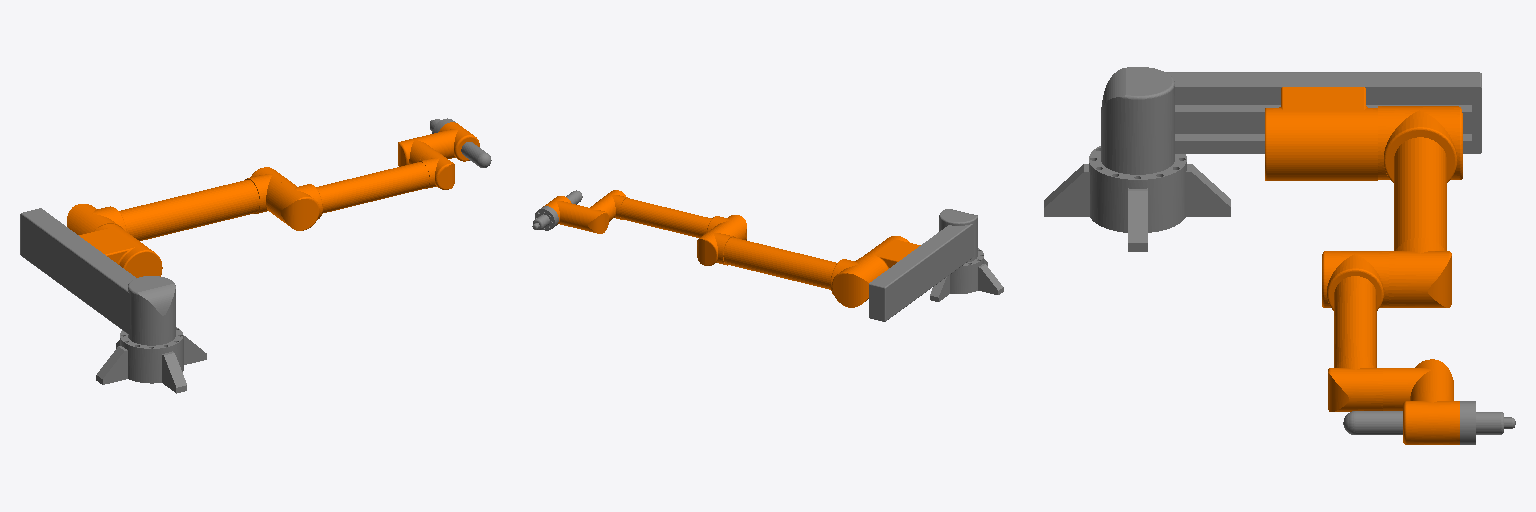
robot.urdf — myrobot:
<?xml version="1.0" ?>
<!-- =================================================================================== -->
<!-- |    This document was autogenerated by xacro from kr20.xacro                     | -->
<!-- |    EDITING THIS FILE BY HAND IS NOT RECOMMENDED                                 | -->
<!-- =================================================================================== -->
<robot name="myrobot">
  <!-- END - Include -->
  <!-- World frame (for Gazebo) -->
  <link name="world"/>
  <!-- Arm fixed to world frame  -->
  <joint name="world__base" type="fixed">
    <parent link="world"/>
    <child link="base_link"/>
    <origin rpy="0 0 0" xyz="0 0 0"/>
  </joint>
  <link name="base_link">
    <inertial>
      <mass value="36.629"/>
      <origin rpy="0 0 0" xyz="0 0 0"/>
      <inertia ixx="184.1" ixy="0" ixz="0" iyy="184.1" iyz="0" izz="283.7"/>
    </inertial>
    <collision>
      <origin rpy="0 0 0" xyz="0 0 0"/>
      <geometry>
        <mesh filename="package://universal_robot/meshes/base_link.stl" scale="0.001 0.001 0.001"/>
      </geometry>
    </collision>
    <visual>
      <origin rpy="0 0 0" xyz="0 0 0"/>
      <geometry>
        <mesh filename="package://universal_robot/meshes/base_link.stl" scale="0.001 0.001 0.001"/>
      </geometry>
      <material name="Grey"/>
    </visual>
  </link>
  <material name="Orange">
    <color rgba="1.0 0.5 0.0 1.0"/>
  </material>
  <material name="White">
    <color rgba="0.96 0.96 0.96 1.0"/>
  </material>
  <material name="Grey">
    <color rgba="0.56 0.56 0.56 1.0"/>
  </material>
  <gazebo reference="base">
    <material>Gazebo/Grey</material>
  </gazebo>
  <gazebo reference="link01">
    <material>Gazebo/Grey</material>
  </gazebo>
  <gazebo reference="link02">
    <material>Gazebo/Orange</material>
  </gazebo>
  <gazebo reference="link03">
    <material>Gazebo/Orange</material>
  </gazebo>
  <gazebo reference="link04">
    <material>Gazebo/Orange</material>
  </gazebo>
  <gazebo reference="link05">
    <material>Gazebo/Orange</material>
  </gazebo>
  <gazebo reference="link06">
    <material>Gazebo/Orange</material>
  </gazebo>
  <gazebo reference="link07">
    <material>Gazebo/Orange</material>
  </gazebo>
  <gazebo reference="linkef">
    <material>Gazebo/Grey</material>
  </gazebo>
  <!-- BEGIN - Robot description -->
  <joint name="q1" type="revolute">
    <axis xyz="0 0 1"/>
    <limit effort="1000" lower="-3.14" upper="3.14" velocity="0.5"/>
    <origin rpy="0 0 0" xyz="0 0 0.12"/>
    <parent link="base_link"/>
    <child link="link01"/>
  </joint>
  <transmission name="trans_q1">
    <type>transmission_interface/SimpleTransmission</type>
    <joint name="q1">
      <hardwareInterface>hardware_interface/PositionJointInterface</hardwareInterface>
    </joint>
    <actuator name="motor_q1">
      <hardwareInterface>hardware_interface/PositionJointInterface</hardwareInterface>
      <mechanicalReduction>100</mechanicalReduction>
    </actuator>
  </transmission>
  <link name="link01">
    <inertial>
      <mass value="24.74"/>
      <origin rpy="0 0 0" xyz="0 0 0"/>
      <inertia ixx="1430" ixy="84.25" ixz="0.2969" iyy="82.08" iyz="-1.64" izz="1405"/>
    </inertial>
    <collision>
      <origin rpy="0 0 0" xyz="0 0 0"/>
      <geometry>
        <mesh filename="package://universal_robot/meshes/Link1.stl" scale="0.001 0.001 0.001"/>
      </geometry>
    </collision>
    <visual>
      <origin rpy="0 0 0" xyz="0 0 0"/>
      <geometry>
        <mesh filename="package://universal_robot/meshes/Link1.stl" scale="0.001 0.001 0.001"/>
      </geometry>
      <material name="Grey"/>
    </visual>
  </link>
  <joint name="q2" type="prismatic">
    <axis xyz="0 1 0"/>
    <limit effort="1000" lower="-0.192" upper="0.216" velocity="0.5"/>
    <origin rpy="0 0 0" xyz="0 0.37775 0.089"/>
    <parent link="link01"/>
    <child link="link02"/>
  </joint>
  <transmission name="trans_q2">
    <type>transmission_interface/SimpleTransmission</type>
    <joint name="q2">
      <hardwareInterface>hardware_interface/PositionJointInterface</hardwareInterface>
    </joint>
    <actuator name="motor_q2">
      <hardwareInterface>hardware_interface/PositionJointInterface</hardwareInterface>
      <mechanicalReduction>100</mechanicalReduction>
    </actuator>
  </transmission>
  <link name="link02">
    <inertial>
      <mass value="10.88"/>
      <origin rpy="0 0 0" xyz="0 0 0"/>
      <inertia ixx="67.73" ixy="1.2" ixz="0.184" iyy="59.85" iyz="-0.005" izz="83.55"/>
    </inertial>
    <collision>
      <origin rpy="0 0 0" xyz="0 0 0"/>
      <geometry>
        <mesh filename="package://universal_robot/meshes/Link2.stl" scale="0.001 0.001 0.001"/>
      </geometry>
    </collision>
    <visual>
      <origin rpy="0 0 0" xyz="0 0 0"/>
      <geometry>
        <mesh filename="package://universal_robot/meshes/Link2.stl" scale="0.001 0.001 0.001"/>
      </geometry>
      <material name="Orange"/>
    </visual>
  </link>
  <joint name="q3" type="revolute">
    <axis xyz="0 1 0"/>
    <limit effort="1000" lower="-2.15" upper="2.15" velocity="0.5"/>
    <origin rpy="0 0 0" xyz="0.115 0.11 0"/>
    <parent link="link02"/>
    <child link="link03"/>
  </joint>
  <transmission name="trans_q3">
    <type>transmission_interface/SimpleTransmission</type>
    <joint name="q3">
      <hardwareInterface>hardware_interface/PositionJointInterface</hardwareInterface>
    </joint>
    <actuator name="motor_q3">
      <hardwareInterface>hardware_interface/PositionJointInterface</hardwareInterface>
      <mechanicalReduction>100</mechanicalReduction>
    </actuator>
  </transmission>
  <link name="link03">
    <inertial>
      <mass value="19.26"/>
      <origin rpy="0 0 0" xyz="0 0 0"/>
      <inertia ixx="56.06" ixy="-4.0" ixz="0" iyy="1396.0" iyz="0" izz="1404.0"/>
    </inertial>
    <collision>
      <origin rpy="0 0 0" xyz="0 0 0"/>
      <geometry>
        <mesh filename="package://universal_robot/meshes/Link3.stl" scale="0.001 0.001 0.001"/>
      </geometry>
    </collision>
    <visual>
      <origin rpy="0 0 0" xyz="0 0 0"/>
      <geometry>
        <mesh filename="package://universal_robot/meshes/Link3.stl" scale="0.001 0.001 0.001"/>
      </geometry>
      <material name="Orange"/>
    </visual>
  </link>
  <joint name="q4" type="revolute">
    <axis xyz="0 1 0"/>
    <limit effort="1000" lower="-3.14" upper="3.14" velocity="0.5"/>
    <origin rpy="0 0 0" xyz="0.65625 0.0225 0"/>
    <parent link="link03"/>
    <child link="link04"/>
  </joint>
  <transmission name="trans_q4">
    <type>transmission_interface/SimpleTransmission</type>
    <joint name="q4">
      <hardwareInterface>hardware_interface/PositionJointInterface</hardwareInterface>
    </joint>
    <actuator name="motor_q4">
      <hardwareInterface>hardware_interface/PositionJointInterface</hardwareInterface>
      <mechanicalReduction>100</mechanicalReduction>
    </actuator>
  </transmission>
  <link name="link04">
    <inertial>
      <mass value="9.9"/>
      <origin rpy="0 0 0" xyz="0 0 0"/>
      <inertia ixx="17.71" ixy="0.209" ixz="-0.001" iyy="464.8" iyz="0" izz="467.7"/>
    </inertial>
    <collision>
      <origin rpy="0 0 0" xyz="0 0 0"/>
      <geometry>
        <mesh filename="package://universal_robot/meshes/Link4.stl" scale="0.001 0.001 0.001"/>
      </geometry>
    </collision>
    <visual>
      <origin rpy="0 0 0" xyz="0 0 0"/>
      <geometry>
        <mesh filename="package://universal_robot/meshes/Link4.stl" scale="0.001 0.001 0.001"/>
      </geometry>
      <material name="Orange"/>
    </visual>
  </link>
  <joint name="q5" type="revolute">
    <axis xyz="0 1 0"/>
    <limit effort="1000" lower="-3.14" upper="3.14" velocity="0.5"/>
    <origin rpy="0 0 0" xyz=" 0.531 -0.011475 0"/>
    <parent link="link04"/>
    <child link="link05"/>
  </joint>
  <transmission name="trans_q5">
    <type>transmission_interface/SimpleTransmission</type>
    <joint name="q5">
      <hardwareInterface>hardware_interface/PositionJointInterface</hardwareInterface>
    </joint>
    <actuator name="motor_q5">
      <hardwareInterface>hardware_interface/PositionJointInterface</hardwareInterface>
      <mechanicalReduction>100</mechanicalReduction>
    </actuator>
  </transmission>
  <link name="link05">
    <inertial>
      <mass value="2.38"/>
      <origin rpy="0 0 0" xyz="0 0 0"/>
      <inertia ixx="5.613" ixy="-0.8" ixz="0" iyy="6.205" iyz="0" izz="8.616"/>
    </inertial>
    <collision>
      <origin rpy="0 0 0" xyz="0 0 0"/>
      <geometry>
        <mesh filename="package://universal_robot/meshes/Link5.stl" scale="0.001 0.001 0.001"/>
      </geometry>
    </collision>
    <visual>
      <origin rpy="0 0 0" xyz="0 0 0"/>
      <geometry>
        <mesh filename="package://universal_robot/meshes/Link5.stl" scale="0.001 0.001 0.001"/>
      </geometry>
      <material name="Orange"/>
    </visual>
  </link>
  <joint name="q6" type="revolute">
    <axis xyz="1 0 0"/>
    <limit effort="1000" lower="-3.14" upper="3.14" velocity="0.5"/>
    <origin rpy="0 0 0" xyz="0.0985 0.1 0"/>
    <parent link="link05"/>
    <child link="link06"/>
  </joint>
  <transmission name="trans_q6">
    <type>transmission_interface/SimpleTransmission</type>
    <joint name="q6">
      <hardwareInterface>hardware_interface/PositionJointInterface</hardwareInterface>
    </joint>
    <actuator name="motor_q6">
      <hardwareInterface>hardware_interface/PositionJointInterface</hardwareInterface>
      <mechanicalReduction>100</mechanicalReduction>
    </actuator>
  </transmission>
  <link name="link06">
    <inertial>
      <mass value="1.75"/>
      <origin rpy="0 0 0" xyz="0 0 0"/>
      <inertia ixx="2.865" ixy="0.01" ixz="0" iyy="2.792" iyz="0" izz="3.318"/>
    </inertial>
    <collision>
      <origin rpy="0 0 0" xyz="0 0 0"/>
      <geometry>
        <mesh filename="package://universal_robot/meshes/Link6.stl" scale="0.001 0.001 0.001"/>
      </geometry>
    </collision>
    <visual>
      <origin rpy="0 0 0" xyz="0 0 0"/>
      <geometry>
        <mesh filename="package://universal_robot/meshes/Link6.stl" scale="0.001 0.001 0.001"/>
      </geometry>
      <material name="Orange"/>
    </visual>
  </link>
  <joint name="q7" type="revolute">
    <axis xyz="0 1 0"/>
    <limit effort="1000" lower="-3.14" upper="3.14" velocity="0.5"/>
    <origin rpy="0 0 0" xyz="0.0605 0.057 0"/>
    <parent link="link06"/>
    <child link="link07"/>
  </joint>
  <transmission name="trans_q7">
    <type>transmission_interface/SimpleTransmission</type>
    <joint name="q7">
      <hardwareInterface>hardware_interface/PositionJointInterface</hardwareInterface>
    </joint>
    <actuator name="motor_q7">
      <hardwareInterface>hardware_interface/PositionJointInterface</hardwareInterface>
      <mechanicalReduction>100</mechanicalReduction>
    </actuator>
  </transmission>
  <link name="link07">
    <inertial>
      <mass value="0.37"/>
      <origin rpy="0 0 0" xyz="0 0 0"/>
      <inertia ixx="0.2773" ixy="0" ixz="0" iyy="0.493" iyz="0" izz="0.2773"/>
    </inertial>
    <collision>
      <origin rpy="0 0 0" xyz="0 0 0"/>
      <geometry>
        <mesh filename="package://universal_robot/meshes/Link7.stl" scale="0.001 0.001 0.001"/>
      </geometry>
    </collision>
    <visual>
      <origin rpy="0 0 0" xyz="0 0 0"/>
      <geometry>
        <mesh filename="package://universal_robot/meshes/Link7.stl" scale="0.001 0.001 0.001"/>
      </geometry>
      <material name="Grey"/>
    </visual>
  </link>
  <joint name="q8" type="prismatic">
    <axis xyz="0 1 0"/>
    <limit effort="1000" lower="0" upper="0.1" velocity="0.5"/>
    <origin rpy="0 0 0" xyz="0 -0.09 0"/>
    <parent link="link07"/>
    <child link="linkef"/>
  </joint>
  <transmission name="trans_q8">
    <type>transmission_interface/SimpleTransmission</type>
    <joint name="q8">
      <hardwareInterface>hardware_interface/PositionJointInterface</hardwareInterface>
    </joint>
    <actuator name="motor_q8">
      <hardwareInterface>hardware_interface/PositionJointInterface</hardwareInterface>
      <mechanicalReduction>100</mechanicalReduction>
    </actuator>
  </transmission>
  <link name="linkef">
    <inertial>
      <mass value="1.69"/>
      <origin rpy="0 0 0" xyz="0 0 0"/>
      <inertia ixx="16.89" ixy="0" ixz="0" iyy="0.5042" iyz="-0.28" izz="16.89"/>
    </inertial>
    <collision>
      <origin rpy="0 0 0" xyz="0 0 0"/>
      <geometry>
        <mesh filename="package://universal_robot/meshes/Link_EF.stl" scale="0.001 0.001 0.001"/>
      </geometry>
    </collision>
    <visual>
      <origin rpy="0 0 0" xyz="0 0 0"/>
      <geometry>
        <mesh filename="package://universal_robot/meshes/Link_EF.stl" scale="0.001 0.001 0.001"/>
      </geometry>
      <material name="Grey"/>
    </visual>
  </link>
<!-- Este bloque activa el controller_manager de Gazebo -->
  <gazebo>
    <plugin name="gazebo_ros_control" filename="libgazebo_ros_control.so">
      <robotNamespace>/kr20</robotNamespace>
    </plugin>
  </gazebo>

</robot>


--- Render facts (derived) ---
The picture shows the robot from 3 angles, left to right: view 1: azimuth 30°, elevation 25°; view 2: azimuth 150°, elevation 25°; view 3: azimuth 270°, elevation 25°; orthographic projection.
Model myrobot with 10 links and 9 joints (6 revolute, 2 prismatic, 1 fixed), rooted at world, posed every joint at zero.
Links seen in each view (by area): view 1: link01, link03, link04, base_link, link02, link05, link06, linkef; view 2: link03, link01, link04, base_link, link05, link02; view 3: link01, link03, link02, base_link, link04, link06, link05, linkef, link07.
Boxes of the visible links, <box> form: link01: <box>20,208,175,345</box>; link03: <box>67,167,291,240</box>; link04: <box>267,151,454,230</box>; base_link: <box>96,327,206,393</box>; link02: <box>79,224,162,277</box>; link05: <box>398,132,448,166</box>; link06: <box>439,122,479,161</box>; linkef: <box>430,119,491,167</box>; link03: <box>697,227,884,307</box>; link01: <box>869,209,977,321</box>; link04: <box>596,190,746,240</box>; base_link: <box>930,248,1003,301</box>; link05: <box>564,200,614,233</box>; link02: <box>863,236,920,270</box>; link01: <box>1101,67,1481,174</box>; link03: <box>1378,106,1462,307</box>; link02: <box>1265,87,1377,180</box>; base_link: <box>1044,146,1230,251</box>; link04: <box>1322,251,1388,411</box>; link06: <box>1403,391,1459,444</box>; link05: <box>1383,359,1453,410</box>; linkef: <box>1343,411,1515,434</box>; link07: <box>1460,401,1475,444</box>.
Size in the robot's own frame: 1.7 by 0.958 by 0.2945 metres.
Meshes: 9 distinct files referenced, 9 mesh visuals loaded (9 binary STL).